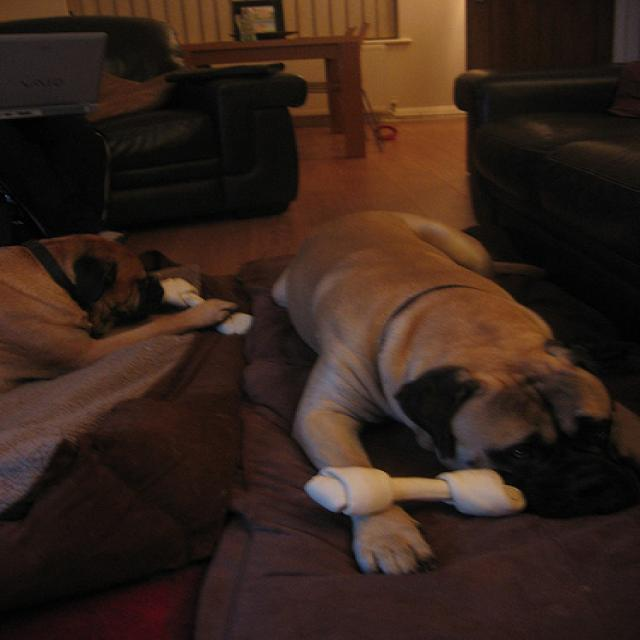Dog: (158, 231, 640, 555), (0, 192, 172, 430)
